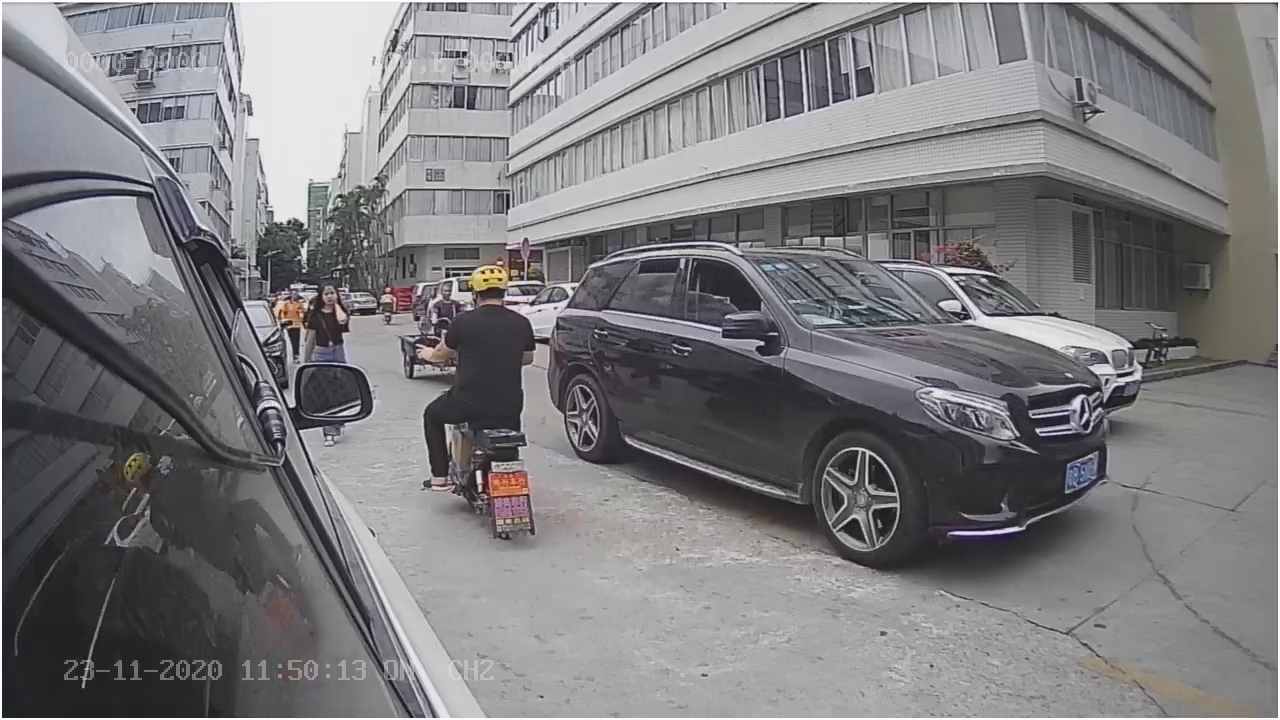person: (418, 258, 542, 370)
